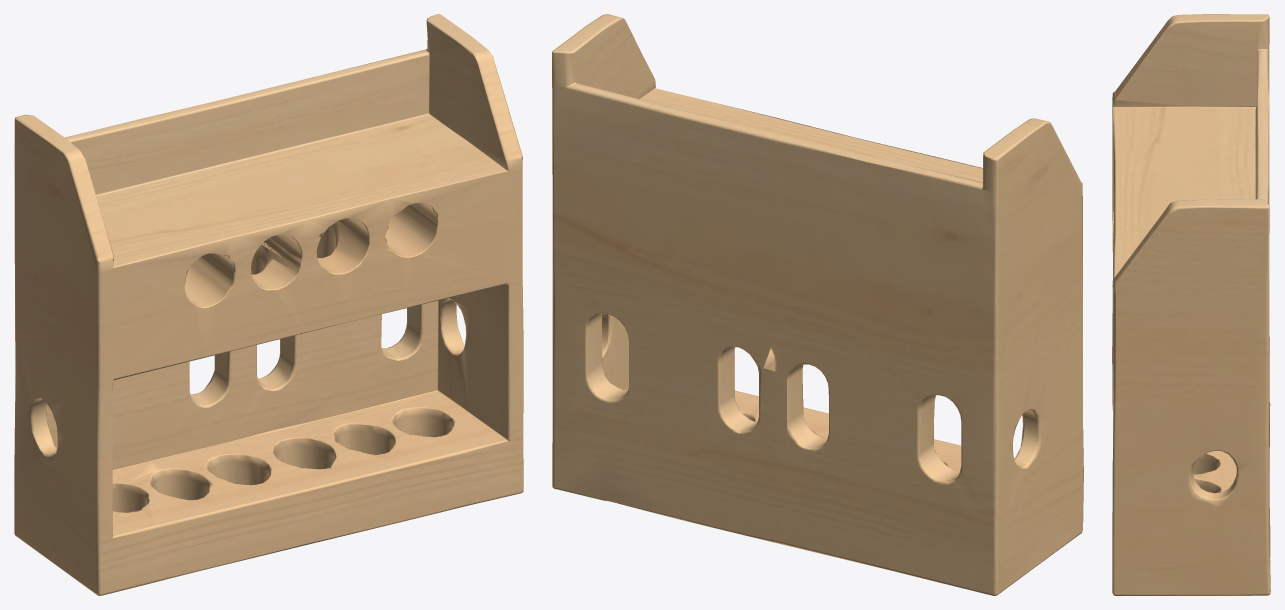
The model's file is tube-rack.glb.
3 renders of one model, left to right at view 1: azimuth 30°, elevation 25°; view 2: azimuth 150°, elevation 25°; view 3: azimuth 270°, elevation 25°, orthographic. The views are drawn at different scales.
Bounding box in the file's own units: 0.9546 × 0.8975 × 0.3305.
Materials: 1 (1 with a texture image).
